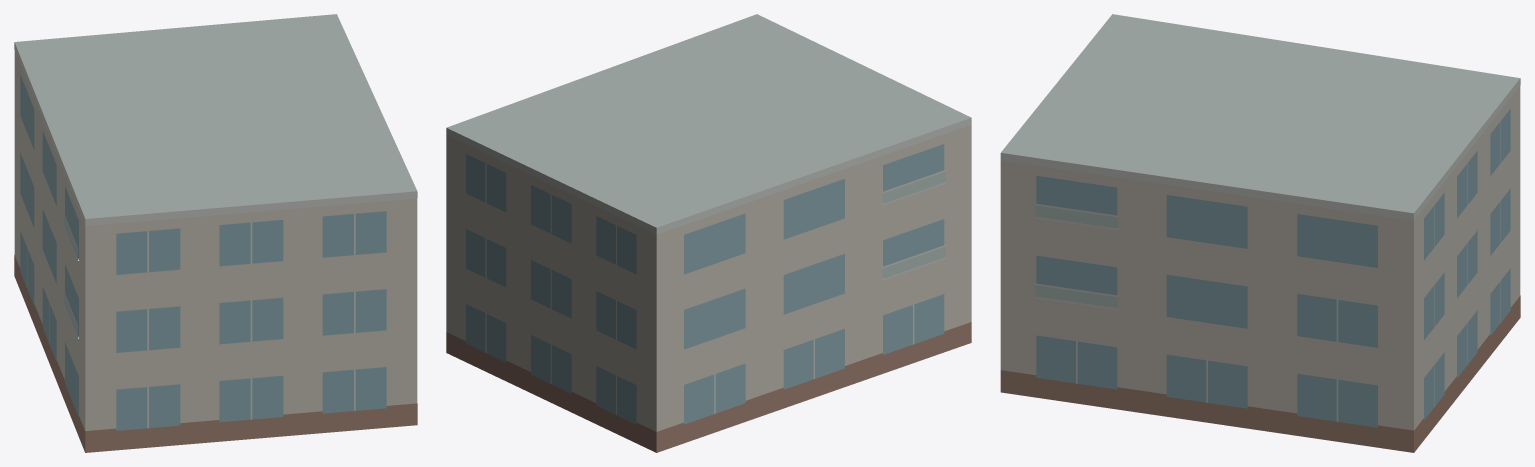
File: survey-upis-32763891.glb
3 renders of one model, left to right at view 1: azimuth 30°, elevation 25°; view 2: azimuth 150°, elevation 25°; view 3: azimuth 270°, elevation 25°, orthographic. The views are drawn at different scales.
Visible parts, largest first — view 1: survey-upis-32763891.tmp; view 2: survey-upis-32763891.tmp; view 3: survey-upis-32763891.tmp.
Part boxes in pixels (x1=…): survey-upis-32763891.tmp: x1=14, y1=14, x2=417, y2=452; survey-upis-32763891.tmp: x1=446, y1=14, x2=971, y2=452; survey-upis-32763891.tmp: x1=1000, y1=14, x2=1520, y2=452.
Size of the model in its own units: 14.1 by 7.9 by 15.54.
